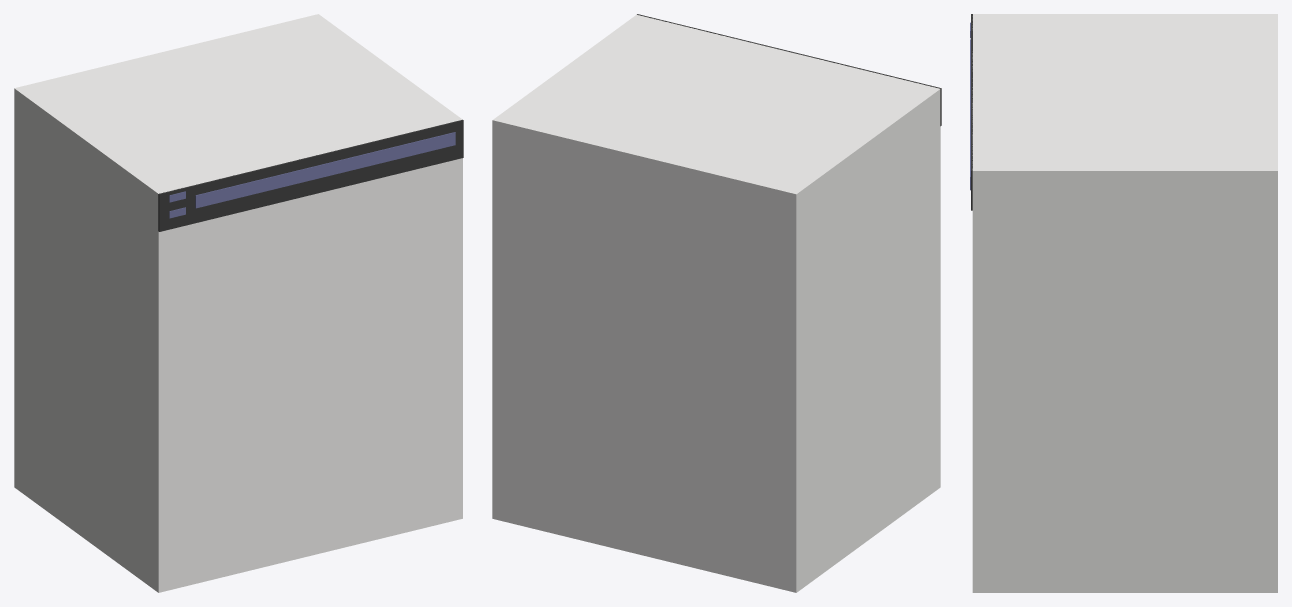
The model's file is Dryer1.fbx.
3 views of the same model, side by side, from view 1: azimuth 30°, elevation 25°; view 2: azimuth 150°, elevation 25°; view 3: azimuth 270°, elevation 25° (orthographic). The views are drawn at different scales.
Parts seen in each view (by area): view 1: Dryer1; view 2: Dryer1; view 3: Dryer1.
Part boxes in pixels (<box>): Dryer1: <box>14,14,463,592</box>; Dryer1: <box>492,14,941,592</box>; Dryer1: <box>970,14,1277,592</box>.
Bounding box in the file's own units: 112 × 92.72 × 140.
